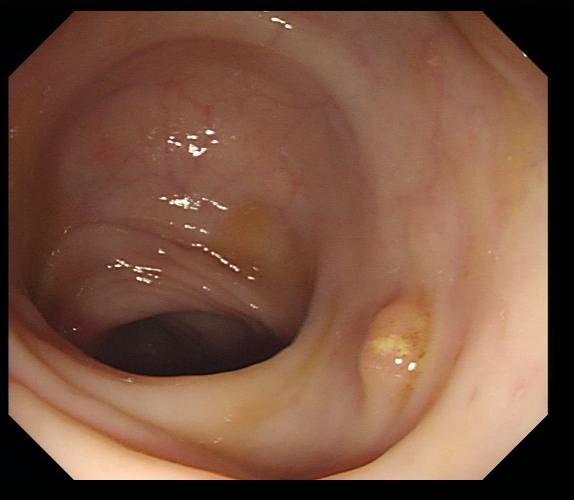polyp: (360, 290, 434, 428)
